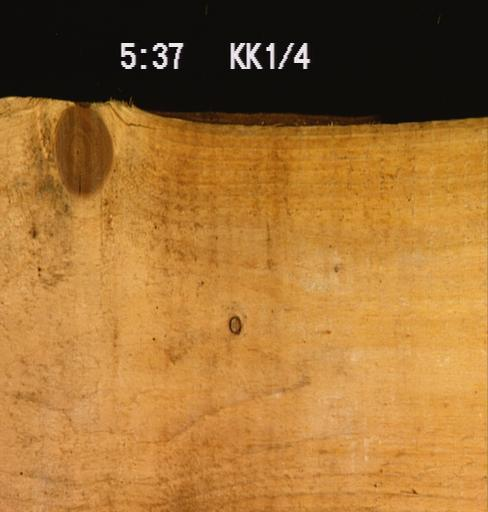dry_knot: (227, 314, 242, 335)
edge_knot: (52, 103, 113, 198)
wave: (153, 112, 378, 127)
